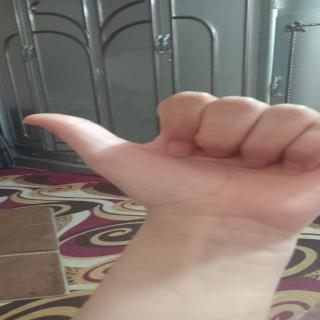DAD: (18, 86, 320, 210)
